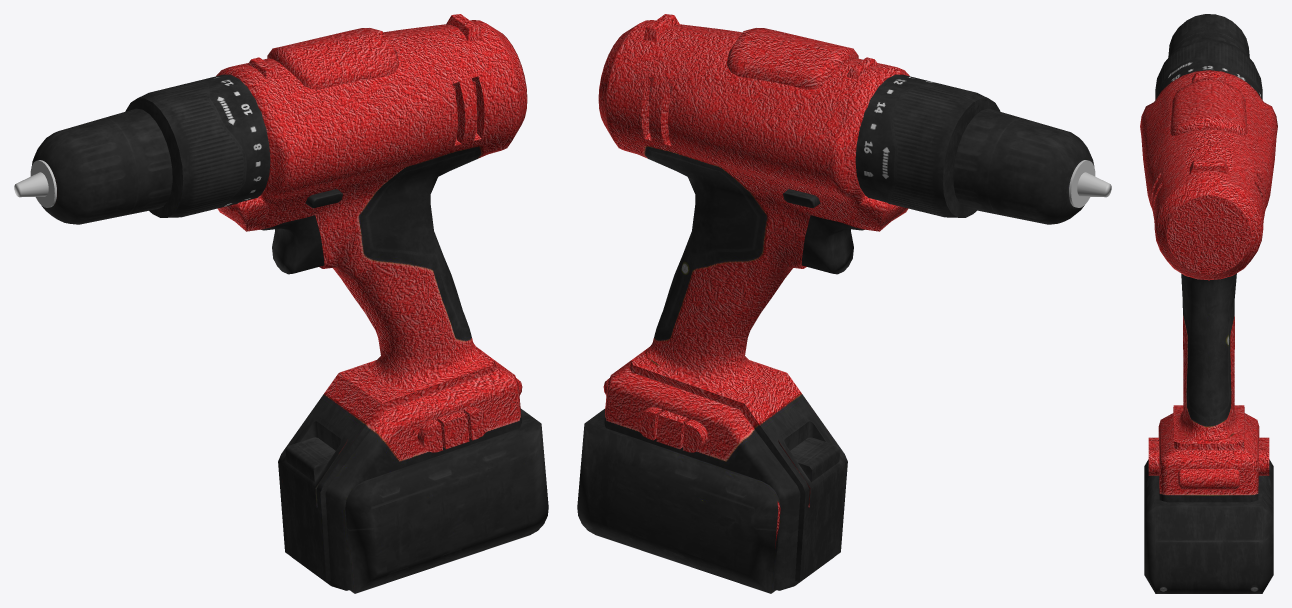
The model's file is drill.glb.
3 views of the same model, side by side, from view 1: azimuth 30°, elevation 25°; view 2: azimuth 150°, elevation 25°; view 3: azimuth 270°, elevation 25° (orthographic). The views are drawn at different scales.
Parts seen in each view (by area): view 1: Drill_01; view 2: Drill_01; view 3: Drill_01.
Boxes of the visible parts, box(x1,y1,x2,y2) form: Drill_01: box(14, 14, 548, 593); Drill_01: box(577, 14, 1111, 593); Drill_01: box(1140, 14, 1277, 593).
Bounding box in the file's own units: 0.1829 × 0.1851 × 0.0524.
2 materials, 1 textured.
